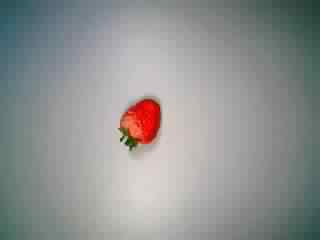strawberry: (101, 94, 167, 156)
